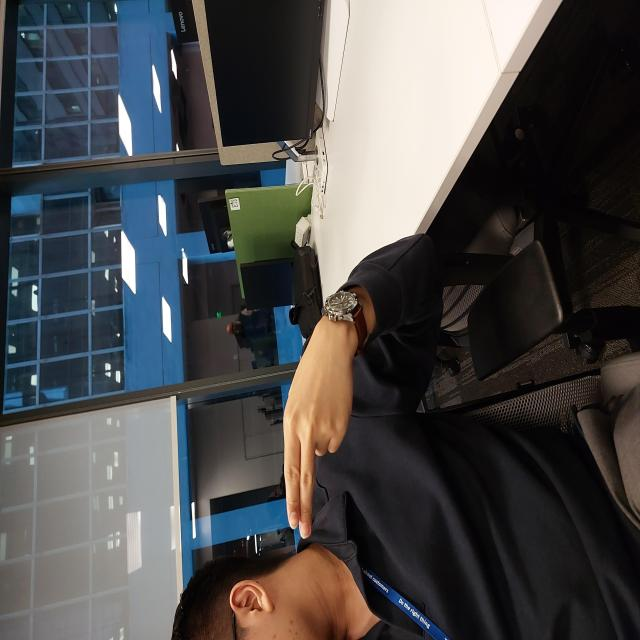H: (102, 281, 296, 353)
